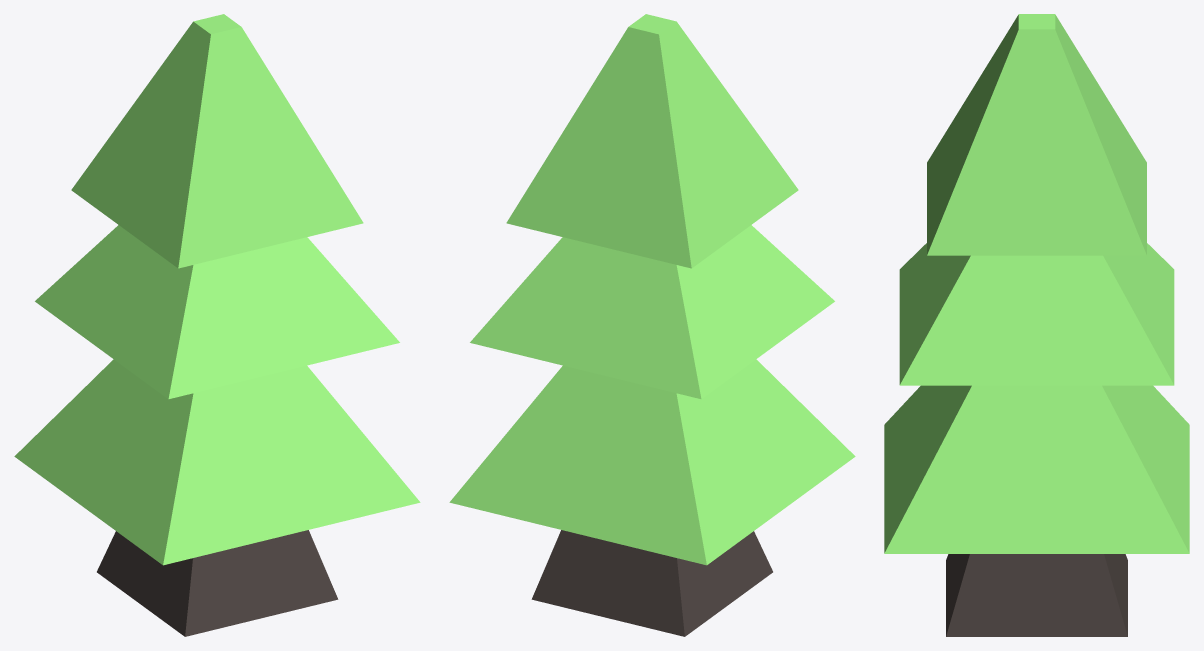
Rendered from tree.fbx.
The picture shows the model from 3 angles, left to right: view 1: azimuth 30°, elevation 25°; view 2: azimuth 150°, elevation 25°; view 3: azimuth 270°, elevation 25°; orthographic projection. The views are drawn at different scales.
Visible parts, largest first — view 1: tree; view 2: tree; view 3: tree.
Part boxes in pixels (x1,y1,x2,y2): tree: [14, 14, 420, 636]; tree: [449, 14, 855, 636]; tree: [884, 14, 1189, 636].
Size of the model in its own units: 336 by 700 by 336.
